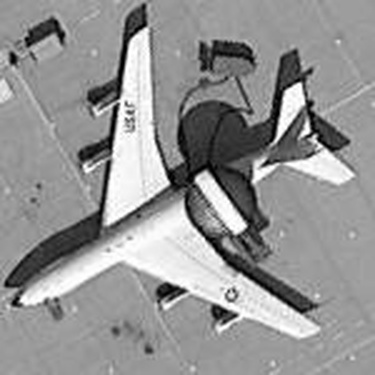airplane: (11, 21, 361, 351)
